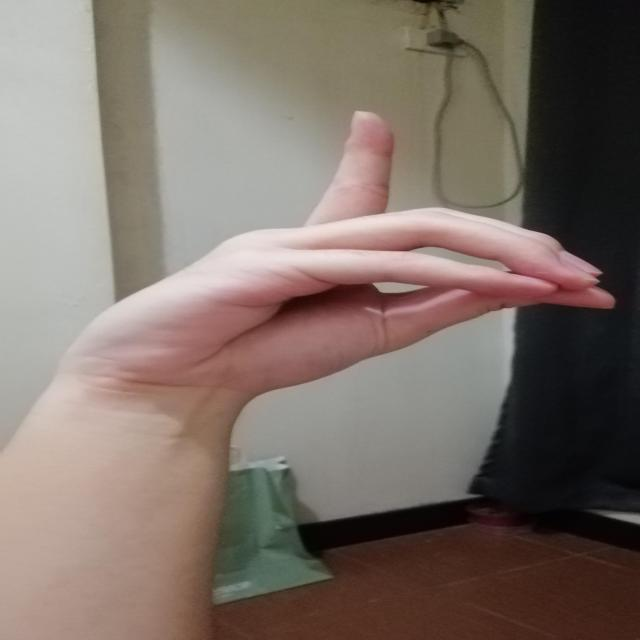D: (65, 111, 619, 380)
